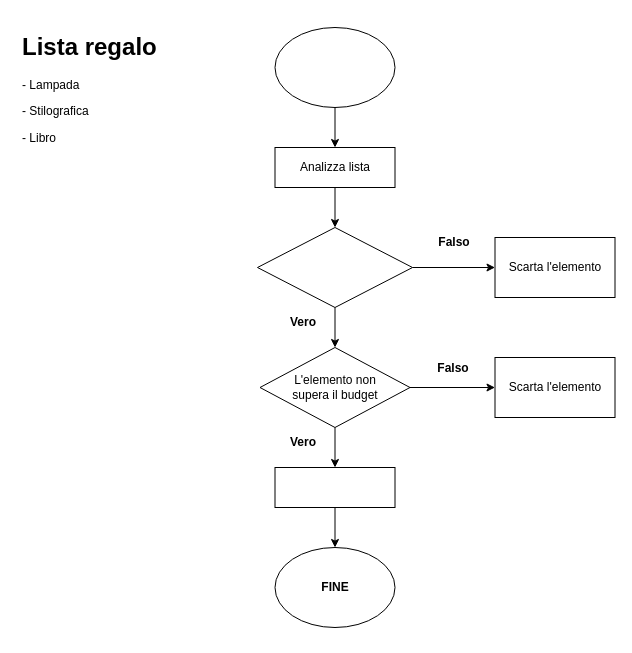
Some shapes in this 632 by 653 pixel diagram are drawn without their labels. The centre of each missing label's shape, as x and y in pixels:
"Acquista elemento" goes at point 334,487.
"INIZIO" goes at point 334,67.
"L'elemento ha la spedizione prime" goes at point 334,267.
